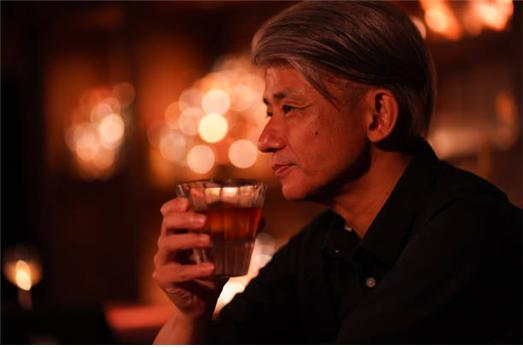alcohol: (178, 180, 262, 279)
